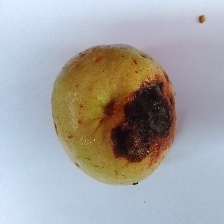guava: (56, 24, 204, 205)
